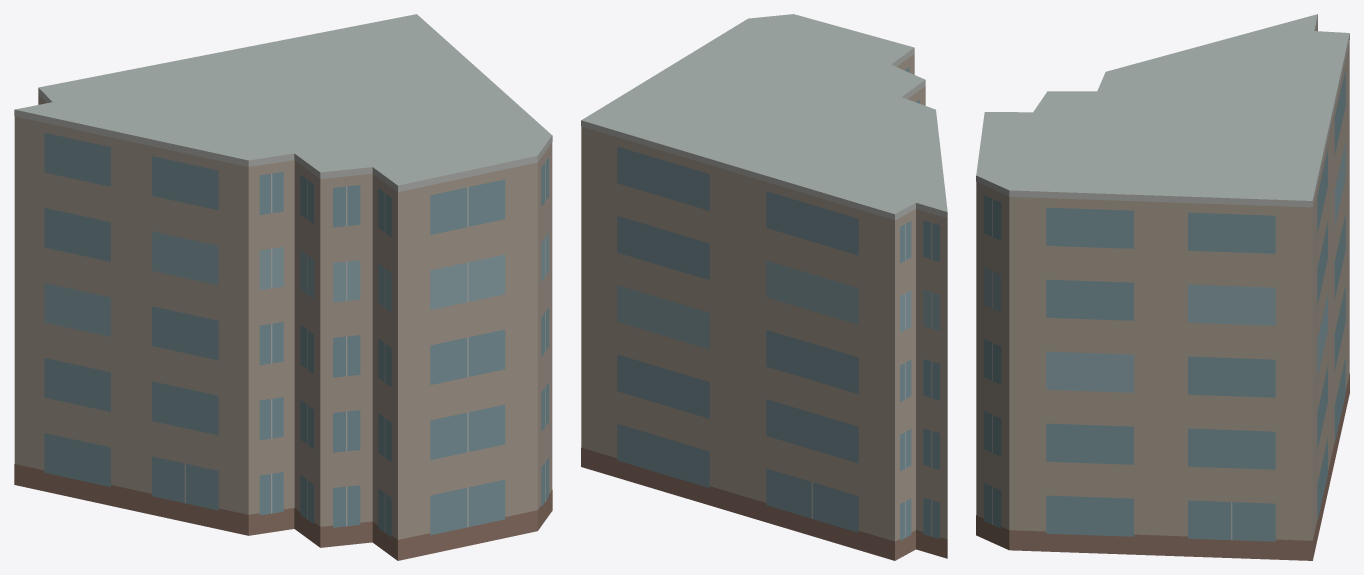
The model's file is survey-upis-32919922.glb.
3 renders of one model, left to right at view 1: azimuth 30°, elevation 25°; view 2: azimuth 150°, elevation 25°; view 3: azimuth 270°, elevation 25°, orthographic. The views are drawn at different scales.
Parts seen in each view (by area): view 1: survey-upis-32919922.tmp; view 2: survey-upis-32919922.tmp; view 3: survey-upis-32919922.tmp.
Boxes of the visible parts, bbox=[...] form: survey-upis-32919922.tmp: bbox=[14, 14, 552, 560]; survey-upis-32919922.tmp: bbox=[581, 14, 947, 560]; survey-upis-32919922.tmp: bbox=[976, 14, 1349, 560].
Bounding box in the file's own units: 15.39 × 13.8 × 13.
